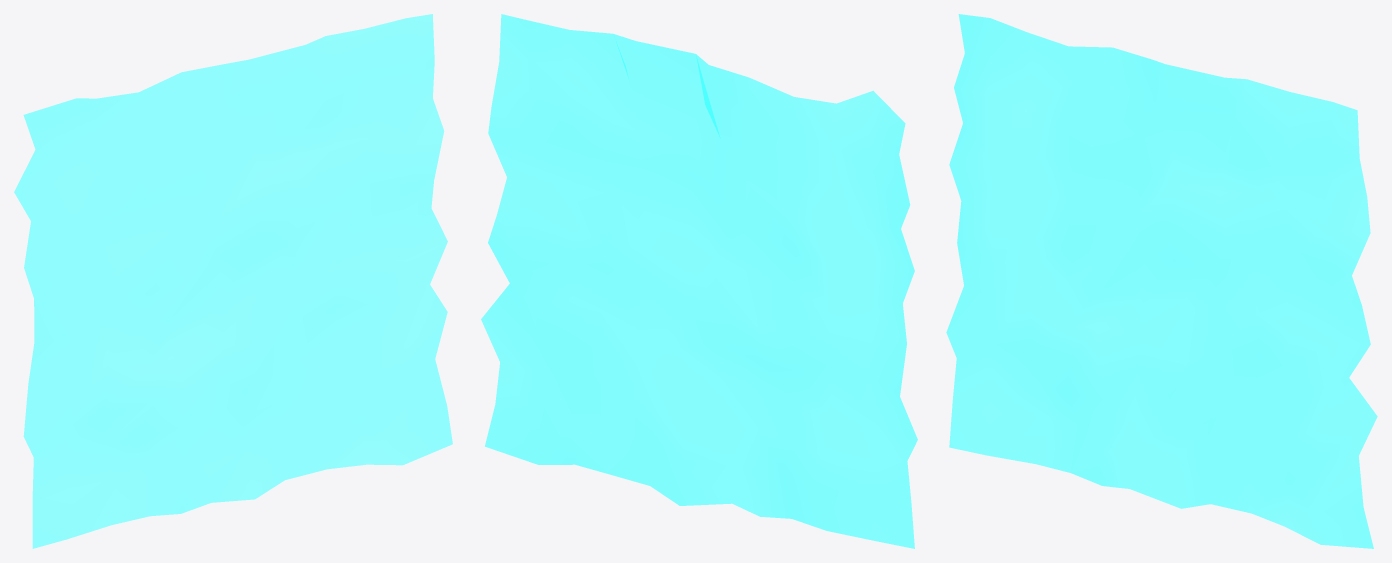
The model's file is space-portal.glb.
3 views of the same model, side by side, from view 1: azimuth 30°, elevation 25°; view 2: azimuth 150°, elevation 25°; view 3: azimuth 330°, elevation 25° (orthographic).
Parts seen in each view (by area): view 1: space_portal_export; view 2: space_portal_export; view 3: space_portal_export.
Part boxes in pixels (x1,y1,x2,y2): space_portal_export: (14, 14, 452, 548); space_portal_export: (481, 14, 917, 548); space_portal_export: (946, 14, 1377, 548).
Size of the model in its own units: 2.61 by 2.62 by 0.1861.
